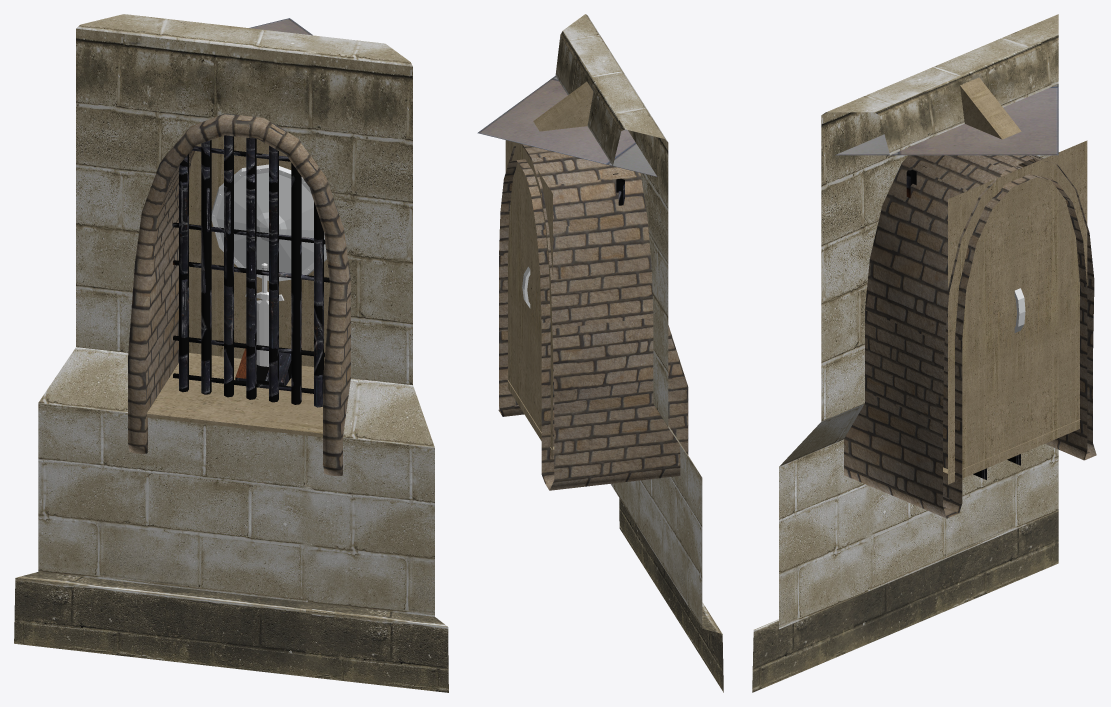
Rendered from castle-wall-45d-w-window.fbx.
3 views of the same model, side by side, from view 1: azimuth 30°, elevation 25°; view 2: azimuth 150°, elevation 25°; view 3: azimuth 270°, elevation 25° (orthographic). The views are drawn at different scales.
Visible parts, largest first — view 1: castle-wall-45d-w-window; view 2: castle-wall-45d-w-window; view 3: castle-wall-45d-w-window.
Boxes of the visible parts, x1,y1,x2,y2 form: castle-wall-45d-w-window: [14, 14, 448, 692]; castle-wall-45d-w-window: [477, 14, 723, 692]; castle-wall-45d-w-window: [752, 14, 1096, 692].
Bounding box in the file's own units: 215 × 400 × 215.
